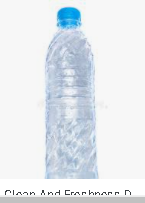Bottle: (44, 7, 98, 180)
